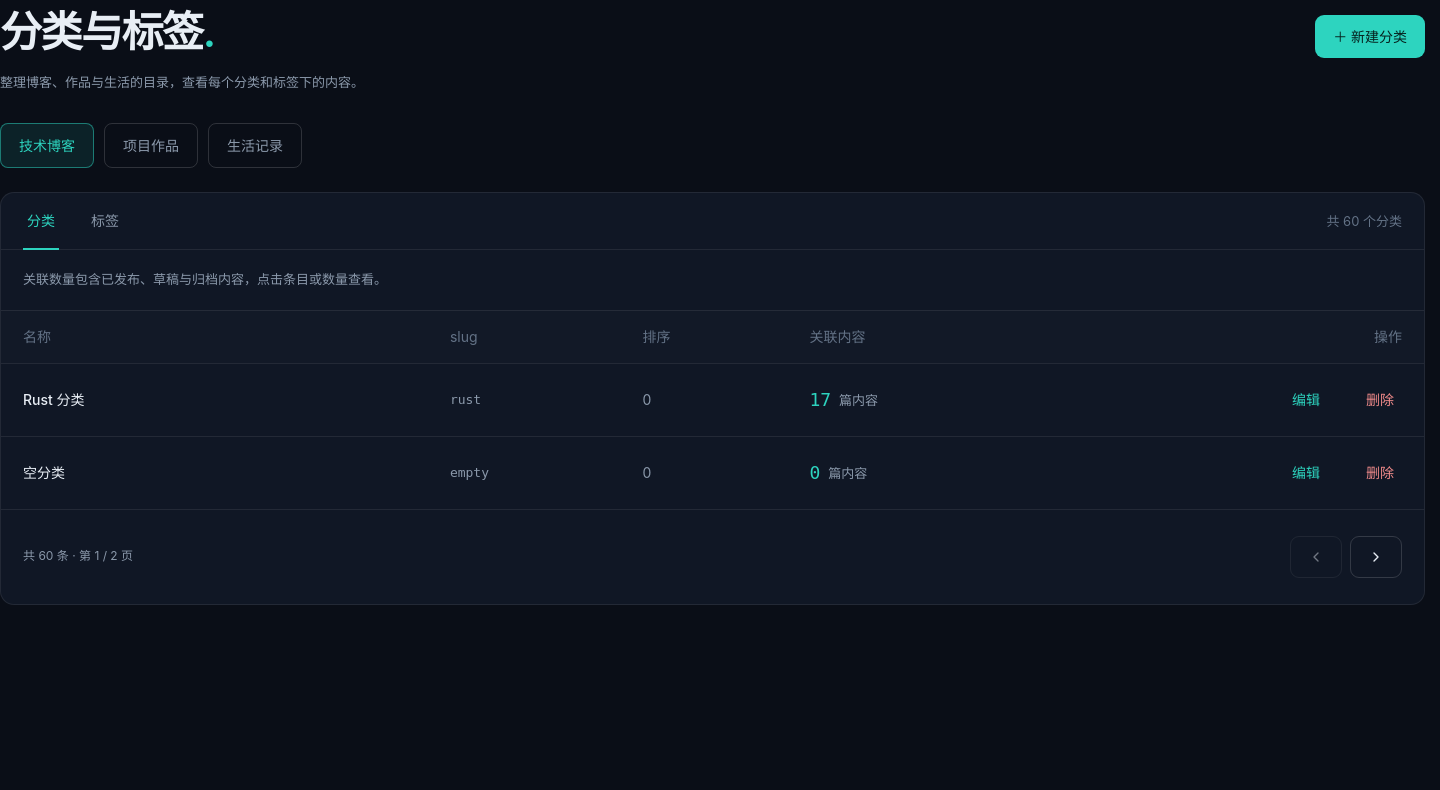
it: 分类与标签关联内容管理 › 显示真实关联数量，点击才请求该目录内容，编辑按钮不会误触展开
Expected: the button "Rust 分类" is shown, [23,380,84,420]
Expected: the text "17" is shown, [809,389,831,410]
Click the 1st button "编辑": click(1306, 400) [1284,380,1328,420]
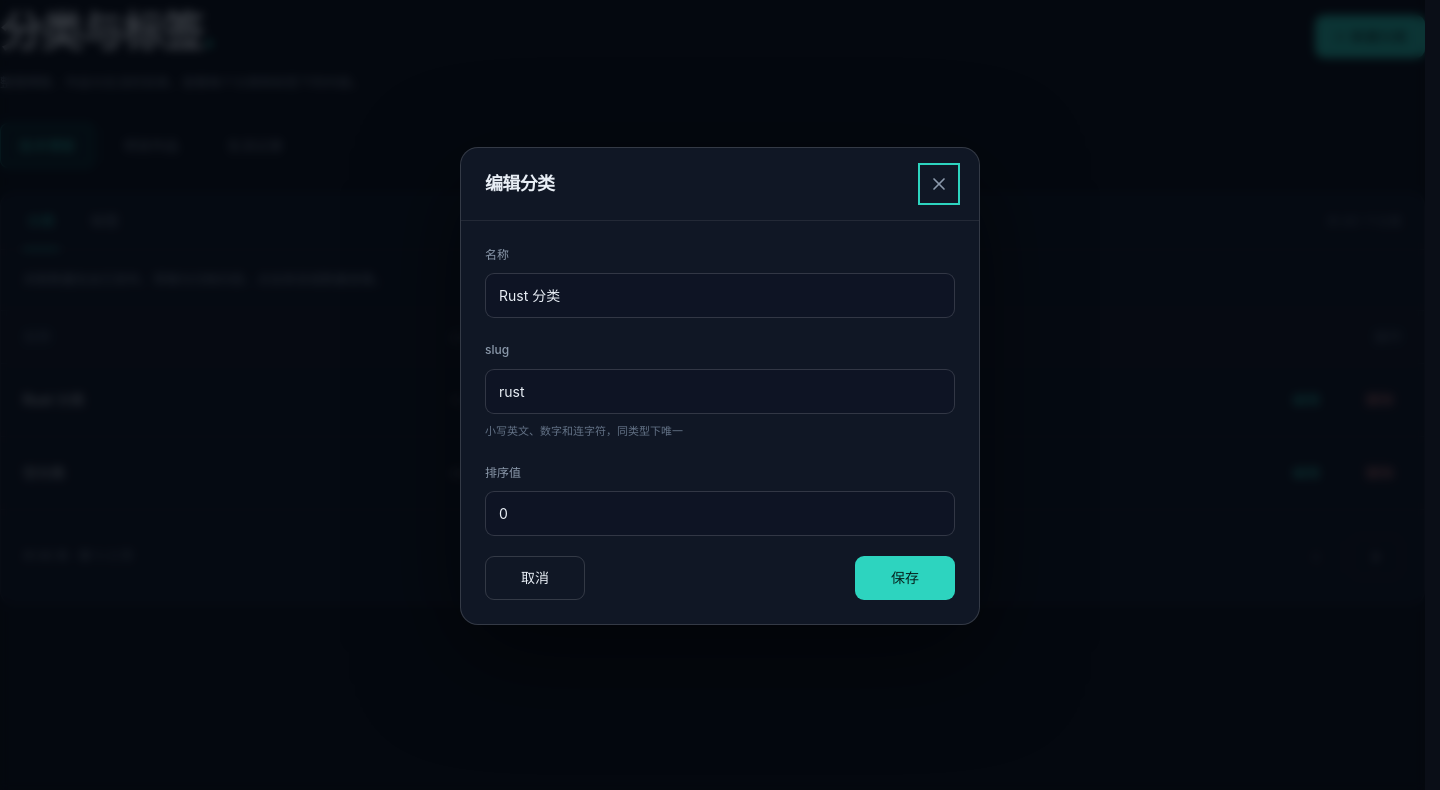
Click the button "取消": click(535, 578) [485,556,585,600]
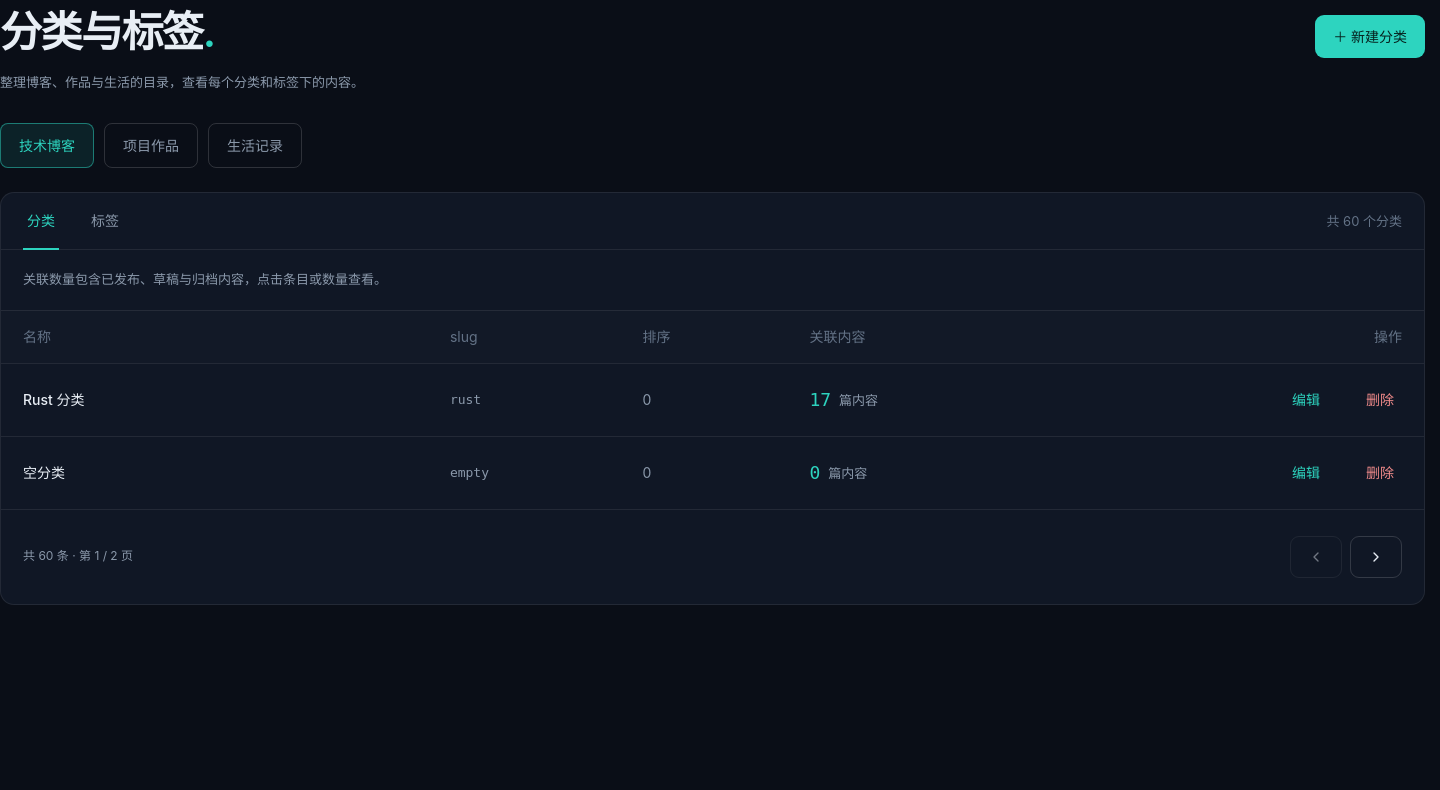
Click the button with aria-label "查看Rust 分类的关联内容": click(844, 400) [809,380,878,420]
(page scrolled)
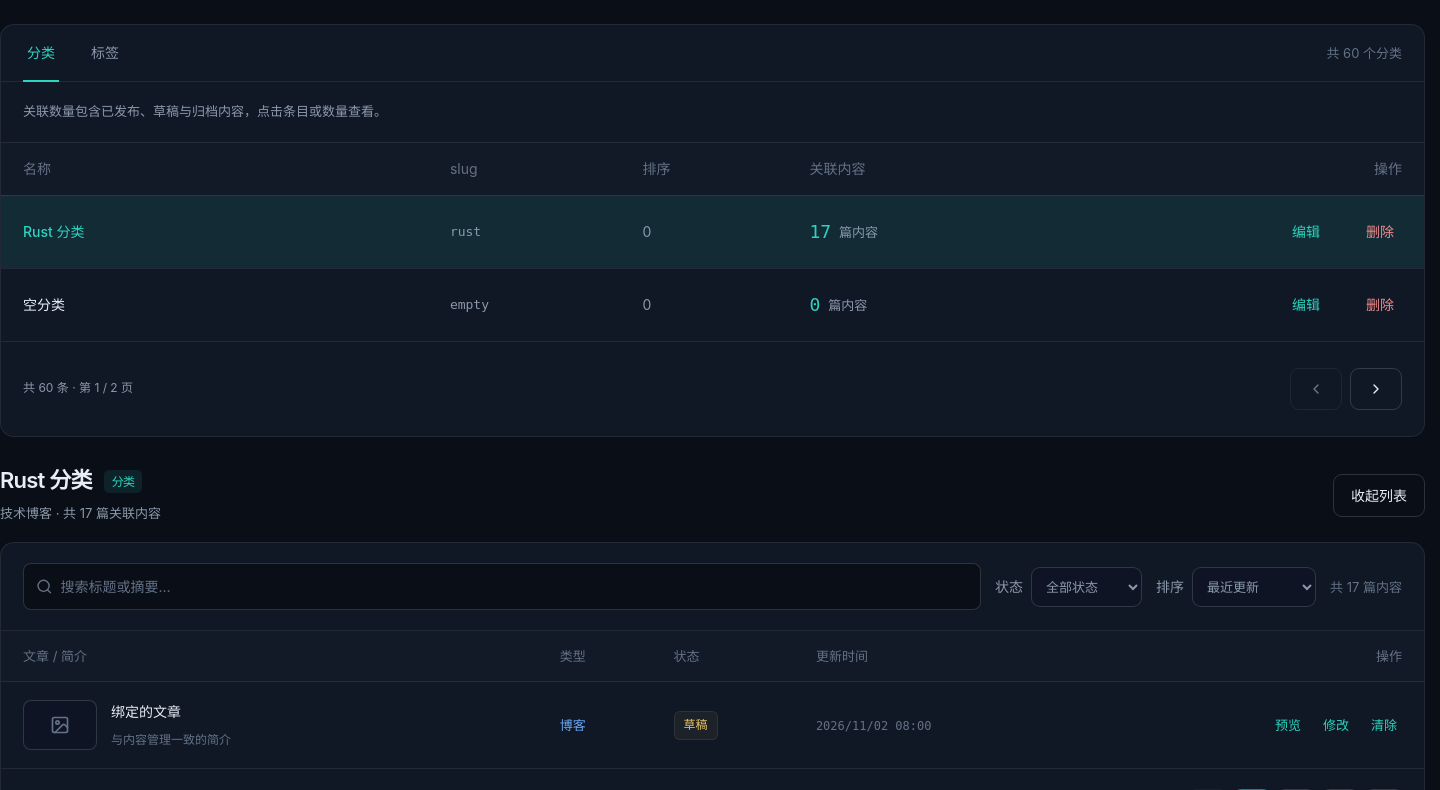
Result: the link "绑定的文章" is shown at [111,703,181,720]
Result: the column heading "文章 / 简介" is shown at [1,631,542,682]
Result: the text "与内容管理一致的简介" is shown at [111,730,231,750]
